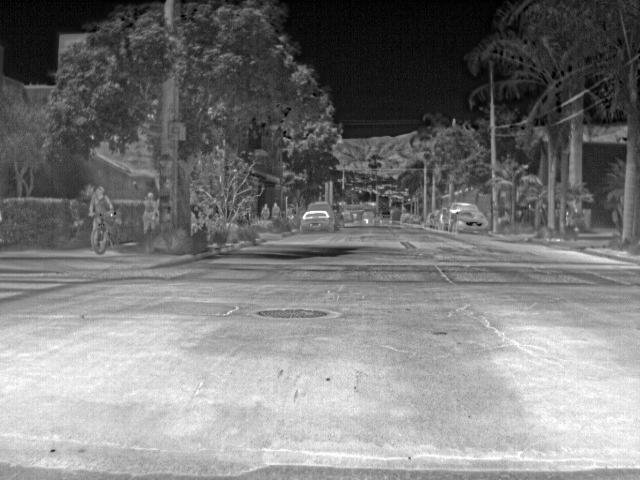car: (308, 199, 343, 228), (445, 200, 478, 230), (299, 209, 332, 235), (457, 211, 490, 237), (425, 210, 440, 229), (377, 207, 392, 222)
person: (86, 185, 117, 251), (139, 188, 162, 237), (270, 201, 284, 227), (259, 206, 271, 224)
